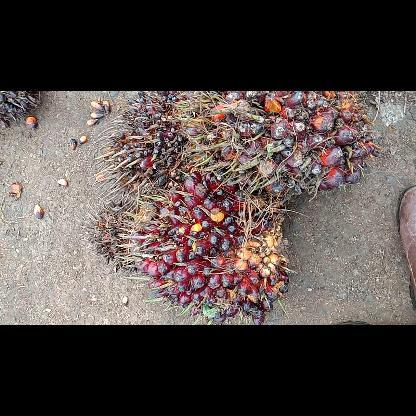TBS abnormal: (92, 91, 194, 204), (76, 186, 156, 276)
TBS masak: (115, 166, 297, 324), (174, 92, 382, 208)
